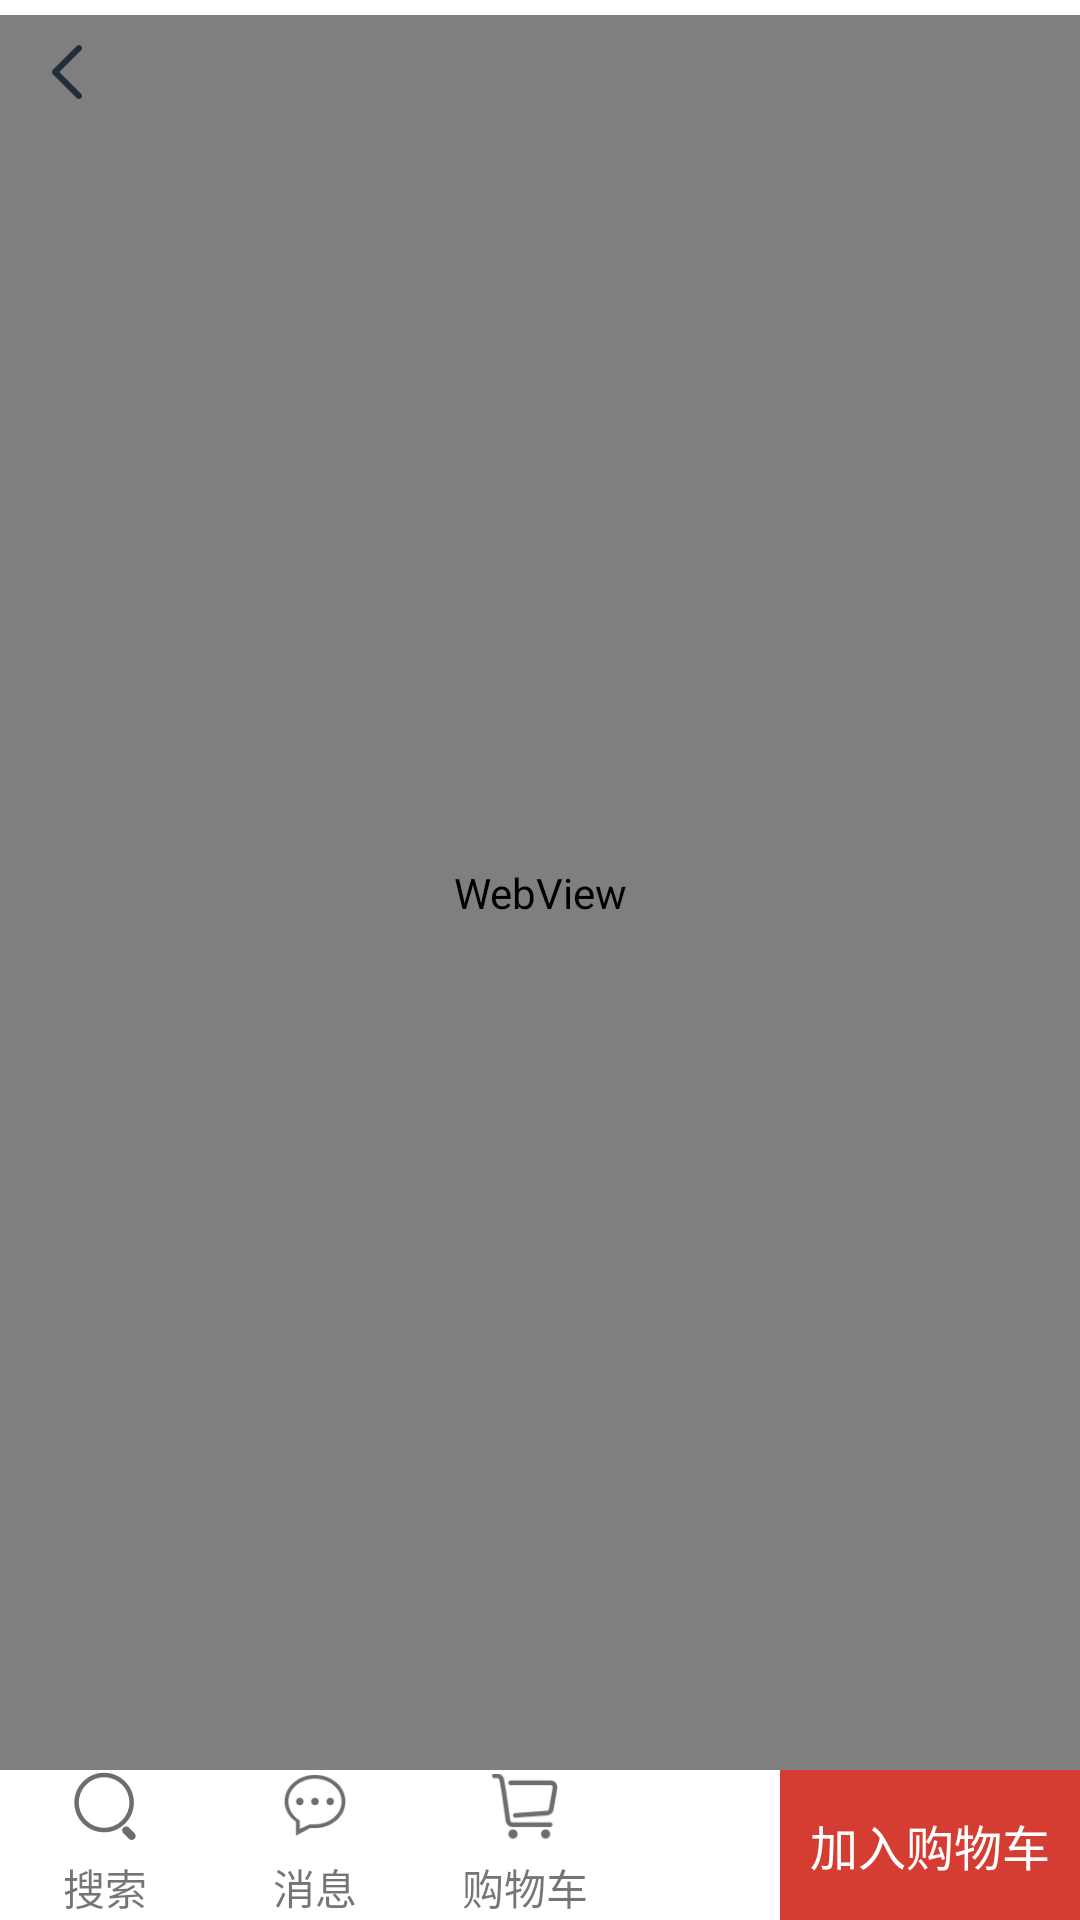

Screen size 1080px x 1920px. Icon name, then its box in pixels as (x1, y1, x2, y2):
details back: (52, 45, 82, 99)
